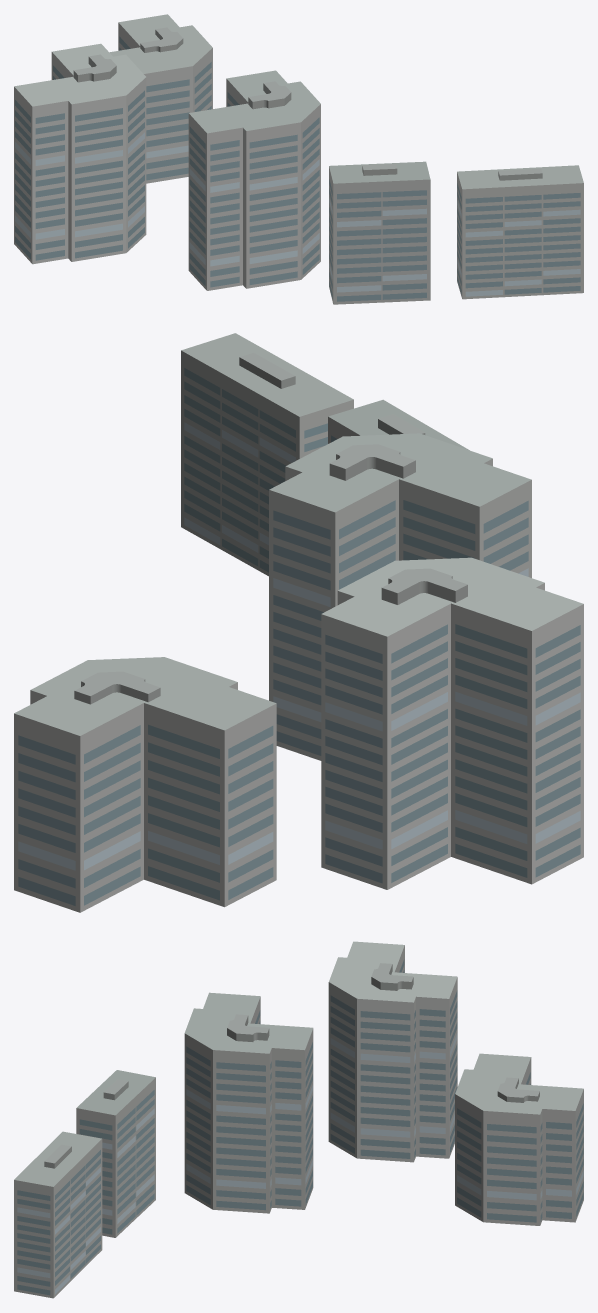
Rendered from apt-a13676103.glb.
3 renders of one model, top to bottom at view 1: azimuth 30°, elevation 25°; view 2: azimuth 150°, elevation 25°; view 3: azimuth 270°, elevation 25°, orthographic. The views are drawn at different scales.
Parts seen in each view (by area): view 1: apt-a13676103; view 2: apt-a13676103; view 3: apt-a13676103.
Boxes of the visible parts, x1,y1,x2,y2 form: apt-a13676103: (14, 14, 583, 304); apt-a13676103: (14, 333, 583, 912); apt-a13676103: (14, 941, 583, 1298).
Size of the model in its own units: 109 by 43 by 133.
